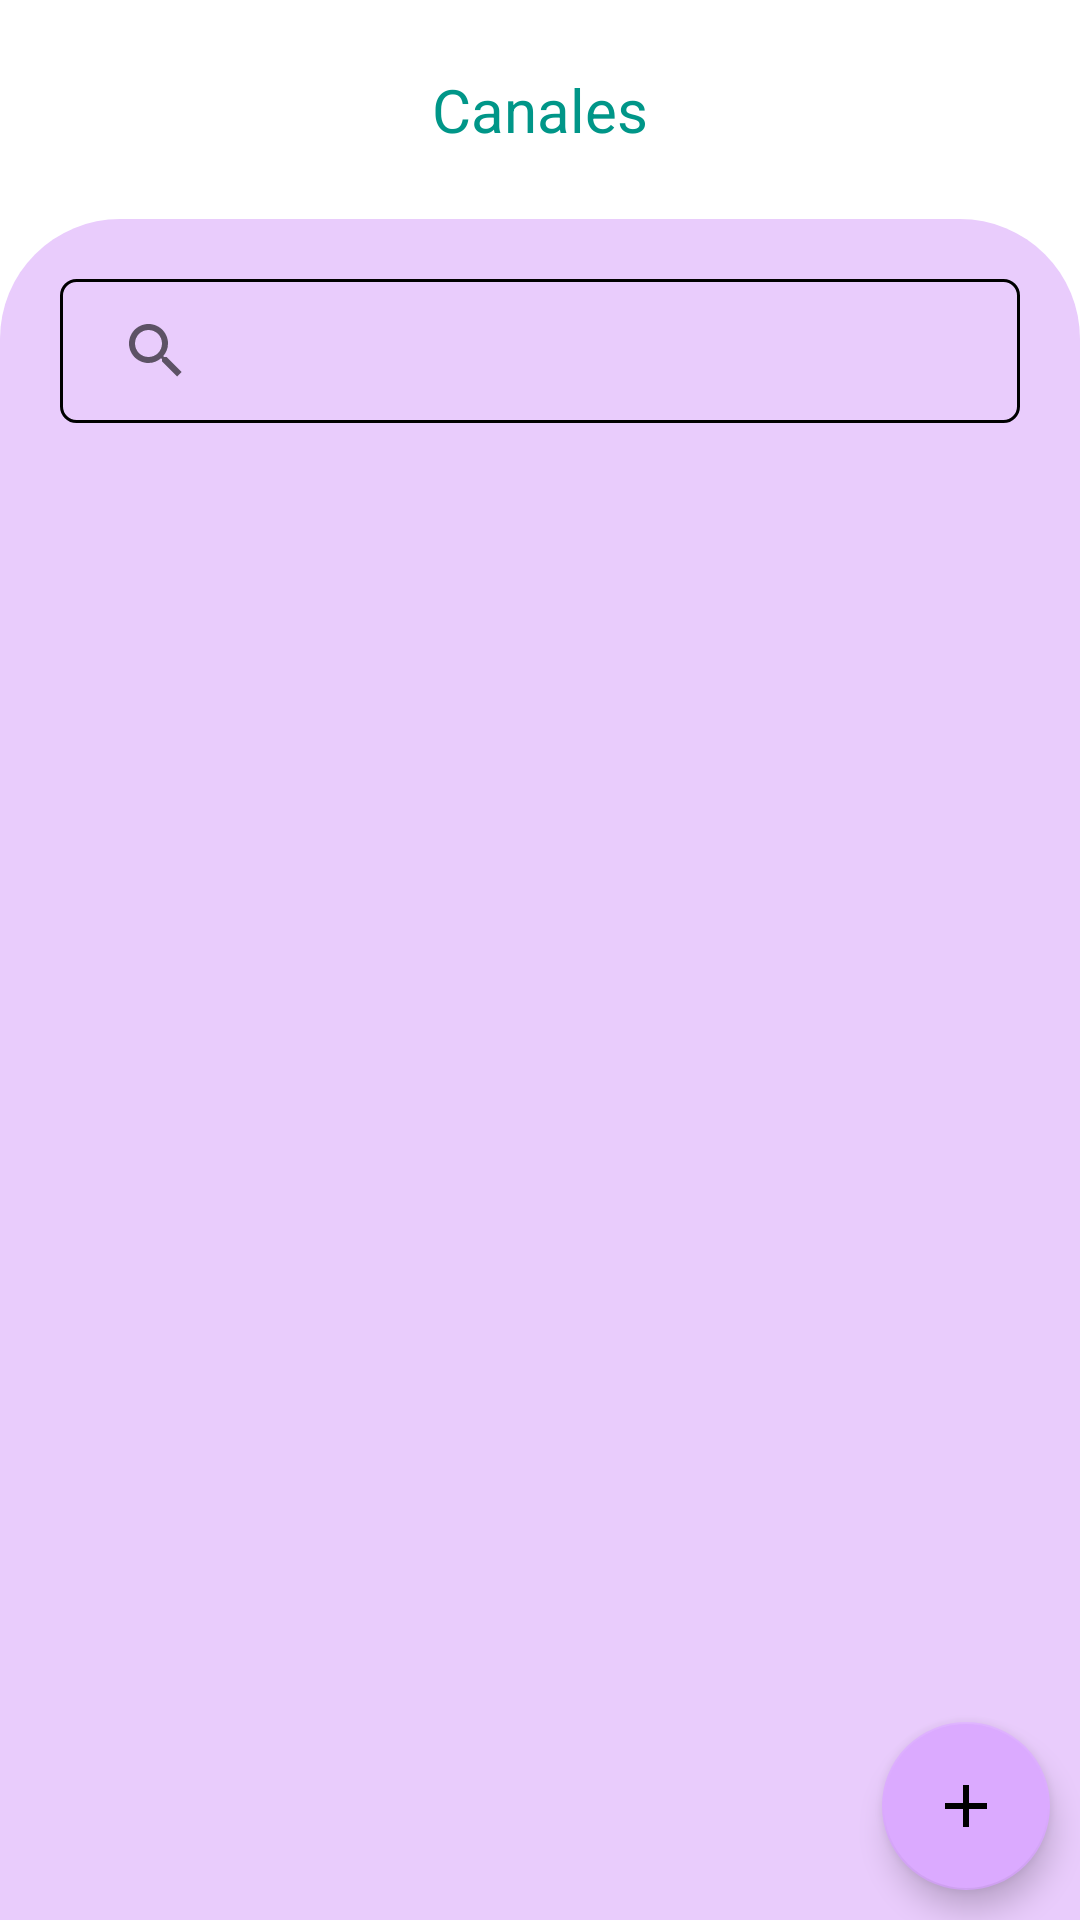

Point at icon controls on the screen. Image size 1080×1920, points as point (x, y).
Agregar canal: point (966, 1807)
